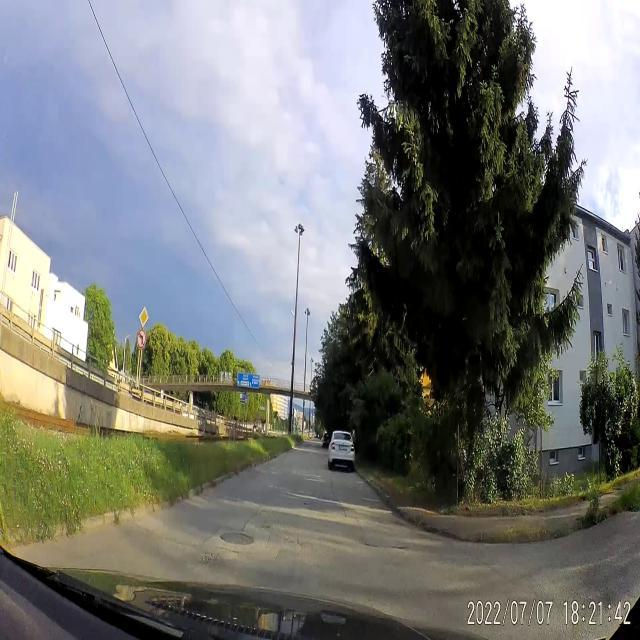Manhole: (216, 528, 256, 552)
